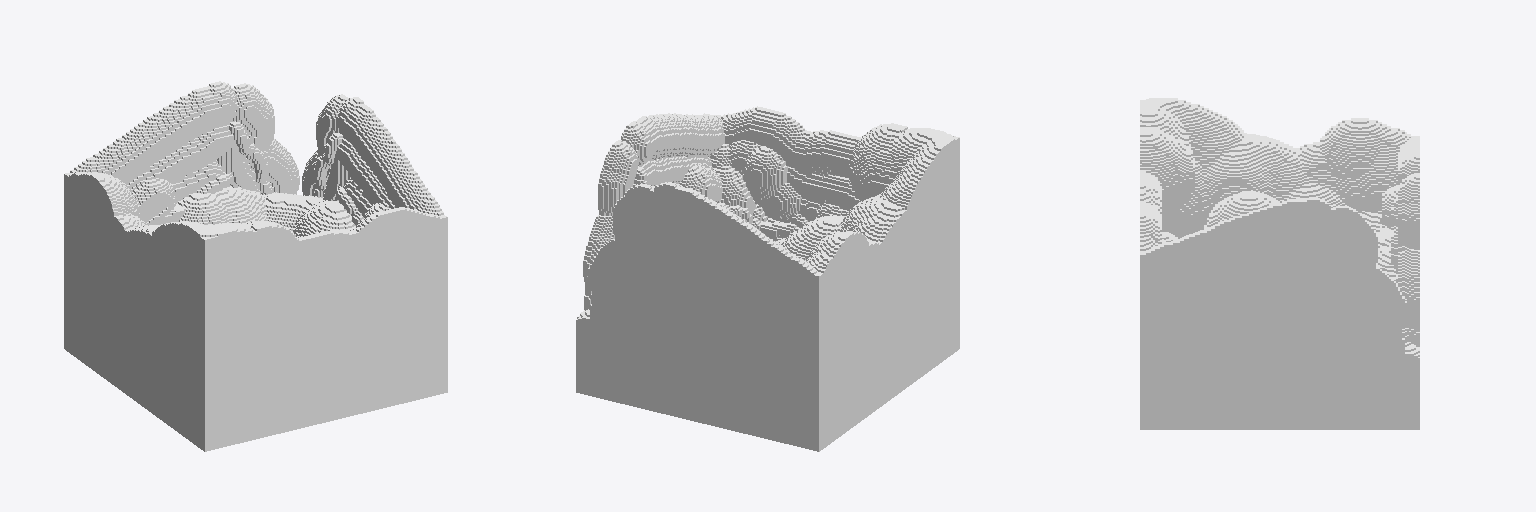
File: Ext_LunarBorder5.obj
3 renders of one model, left to right at view 1: azimuth 30°, elevation 25°; view 2: azimuth 150°, elevation 25°; view 3: azimuth 270°, elevation 25°, orthographic.
Bounding box in the file's own units: 126 × 114 × 126.